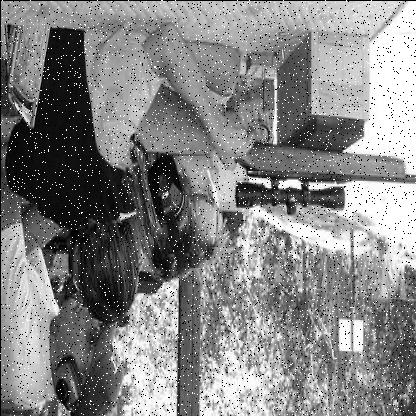rifle: (120, 67, 416, 214)
